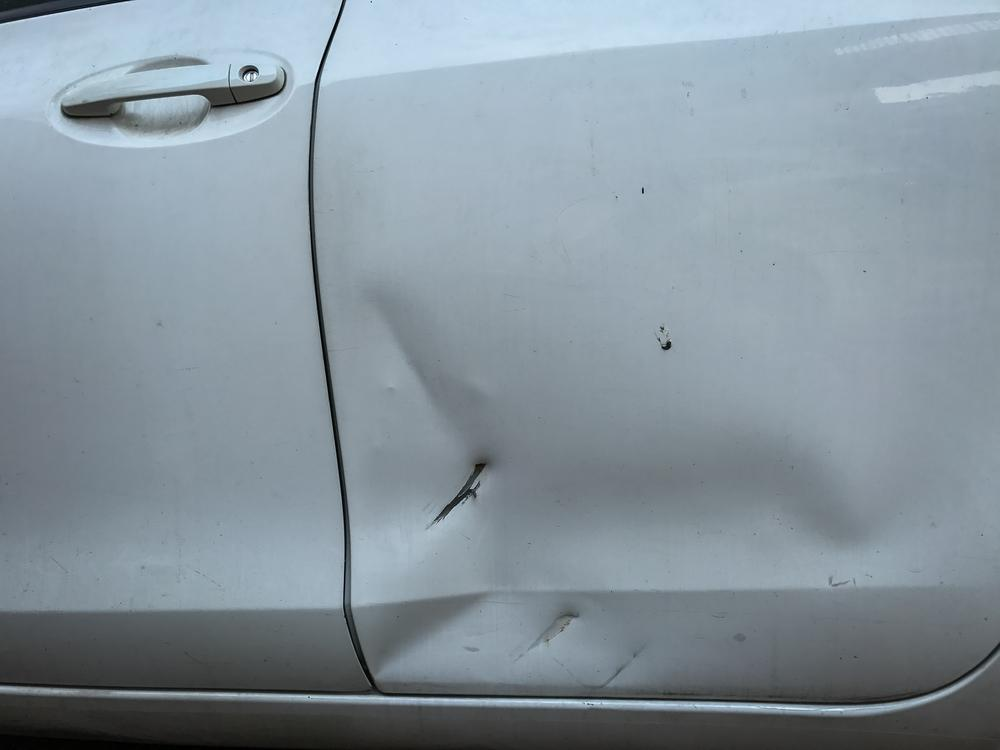dent: (344, 285, 1000, 694)
